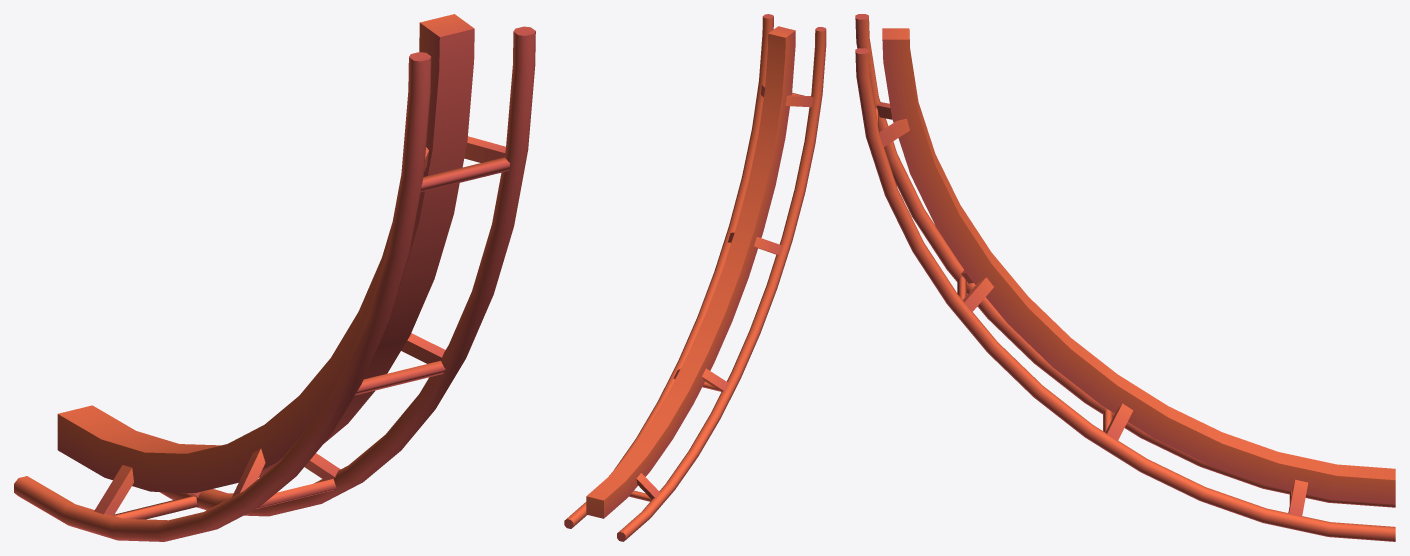
The model's file is kenney-coaster-coaster-hanging-straight-bend-large.glb.
3 renders of one model, left to right at view 1: azimuth 30°, elevation 25°; view 2: azimuth 150°, elevation 25°; view 3: azimuth 270°, elevation 25°, orthographic. The views are drawn at different scales.
Visible parts, largest first — view 1: coaster-hanging-straight-bend-large; view 2: coaster-hanging-straight-bend-large; view 3: coaster-hanging-straight-bend-large.
Part boxes in pixels (x1,y1,x2,y2): coaster-hanging-straight-bend-large: (14,14,535,541); coaster-hanging-straight-bend-large: (564,14,826,541); coaster-hanging-straight-bend-large: (855,14,1395,541).
Bounding box in the file's own units: 0.6997 × 4 × 4.
1 material, 1 textured.
